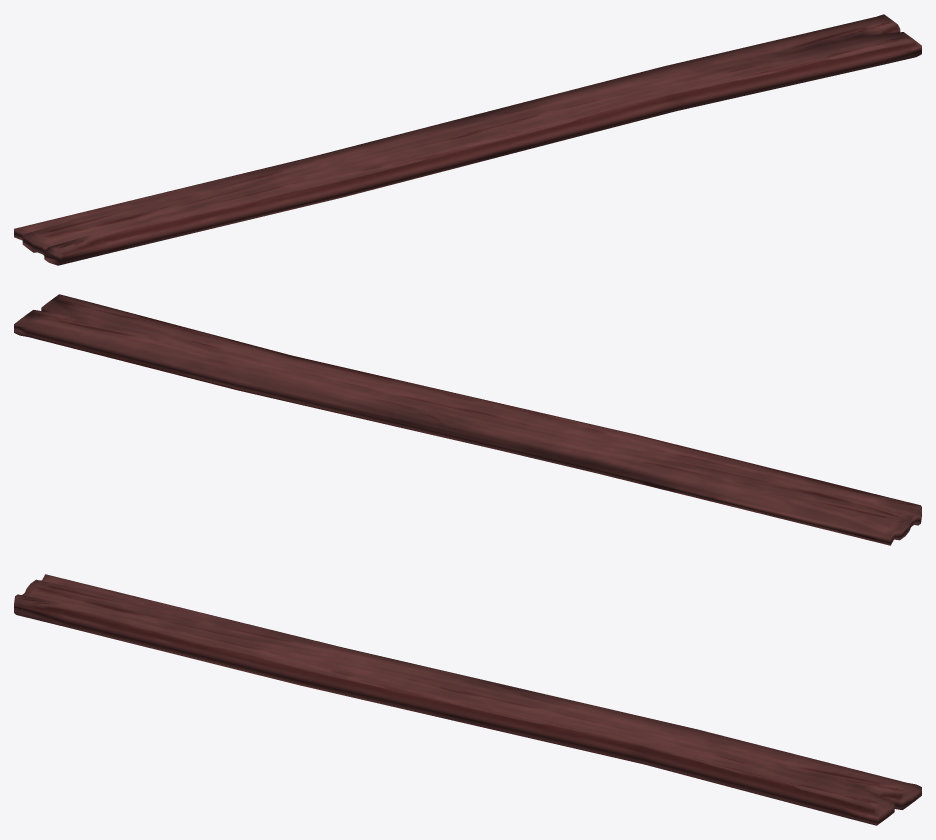
The model's file is MOD_PlankThin.fbx.
The picture shows the model from 3 angles, top to bottom: view 1: azimuth 30°, elevation 25°; view 2: azimuth 150°, elevation 25°; view 3: azimuth 330°, elevation 25°; orthographic projection.
Visible parts, largest first — view 1: MOD_PlankThin; view 2: MOD_PlankThin; view 3: MOD_PlankThin.
Part boxes in pixels (x1,y1,x2,y2): MOD_PlankThin: (14, 14, 921, 265); MOD_PlankThin: (14, 294, 921, 545); MOD_PlankThin: (14, 574, 921, 825).
Size of the model in its own units: 398 by 6.85 by 33.17.
Materials: 1 (1 with a texture image).
